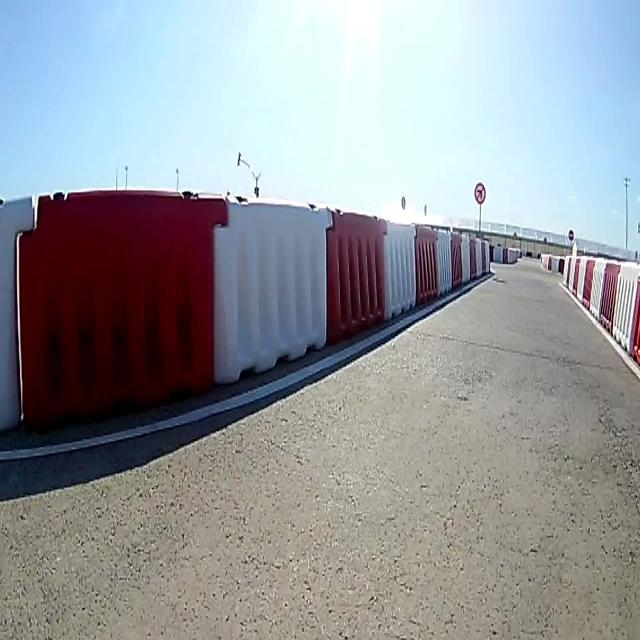soladonulmez: (474, 183, 486, 202)
